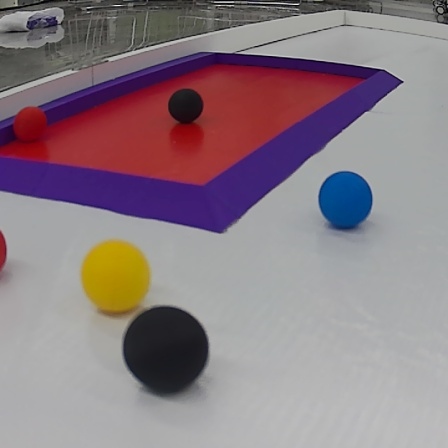black: (118, 305, 213, 397), (165, 84, 208, 128)
blue: (317, 168, 377, 235)
red: (12, 105, 50, 147)
red_aim: (2, 49, 407, 241)
yellow: (81, 239, 152, 317)
